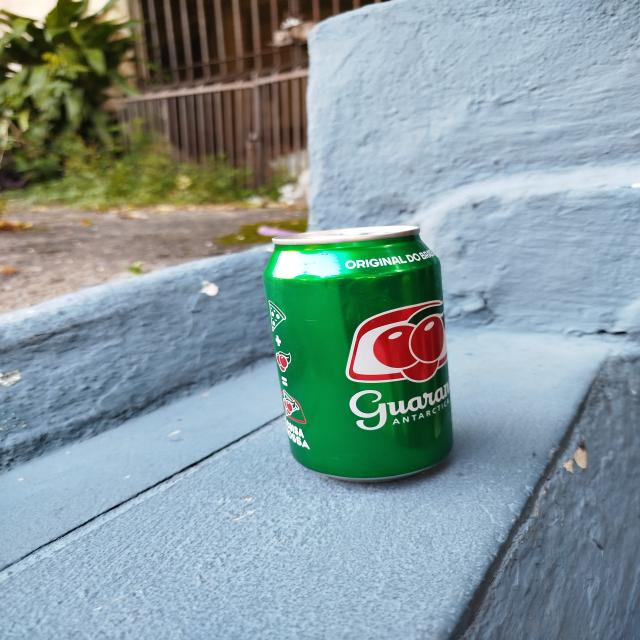Guarana: (271, 228, 456, 478)
